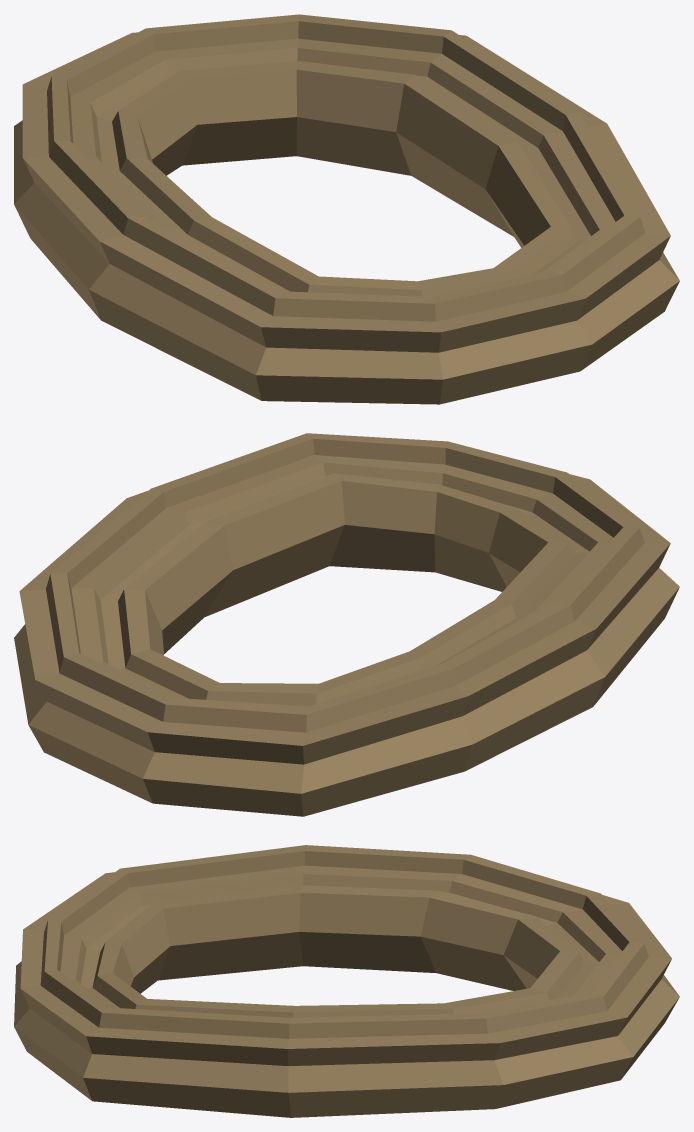
File: SM_Veh_Attach_Rope_02.fbx
3 views of the same model, one above another, from view 1: azimuth 30°, elevation 25°; view 2: azimuth 150°, elevation 25°; view 3: azimuth 270°, elevation 25° (orthographic). The views are drawn at different scales.
Parts seen in each view (by area): view 1: SM_Veh_Attach_Rope_02; view 2: SM_Veh_Attach_Rope_02; view 3: SM_Veh_Attach_Rope_02.
Part boxes in pixels (x1,y1,x2,y2): SM_Veh_Attach_Rope_02: [14, 14, 679, 404]; SM_Veh_Attach_Rope_02: [14, 433, 679, 816]; SM_Veh_Attach_Rope_02: [14, 845, 679, 1117].
Size of the model in its own units: 58.32 by 13.19 by 77.22.
